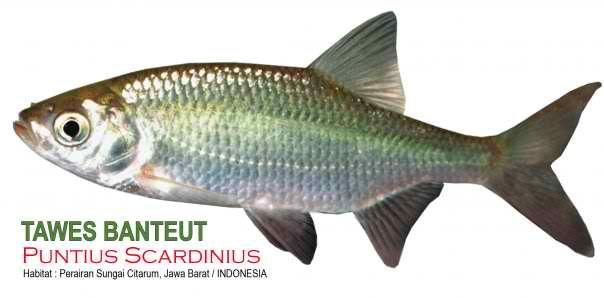Silver Barb: (16, 9, 600, 268)
